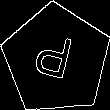P_S: (33, 30, 80, 88)
